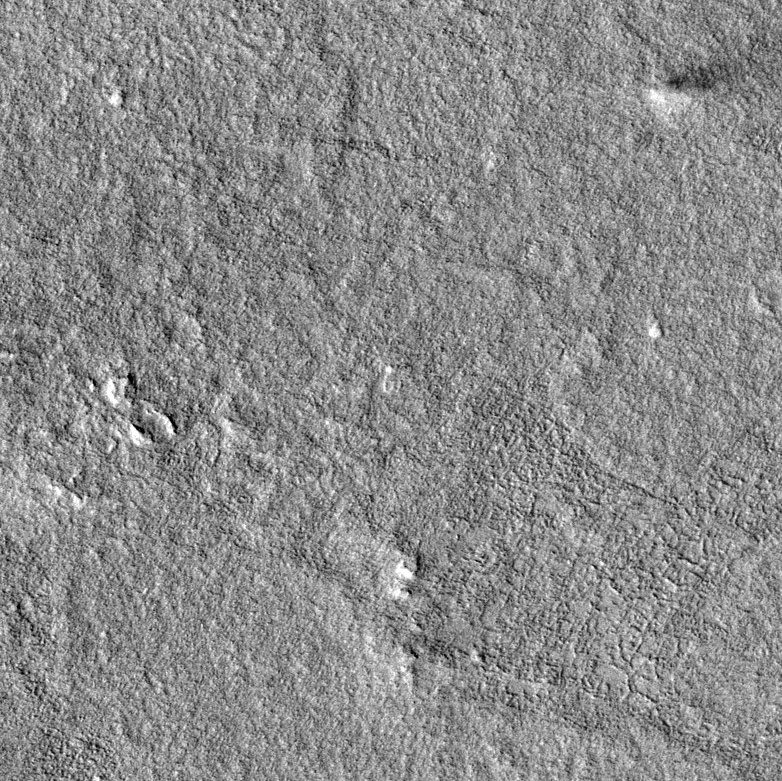dust_devil: (647, 57, 747, 109)
